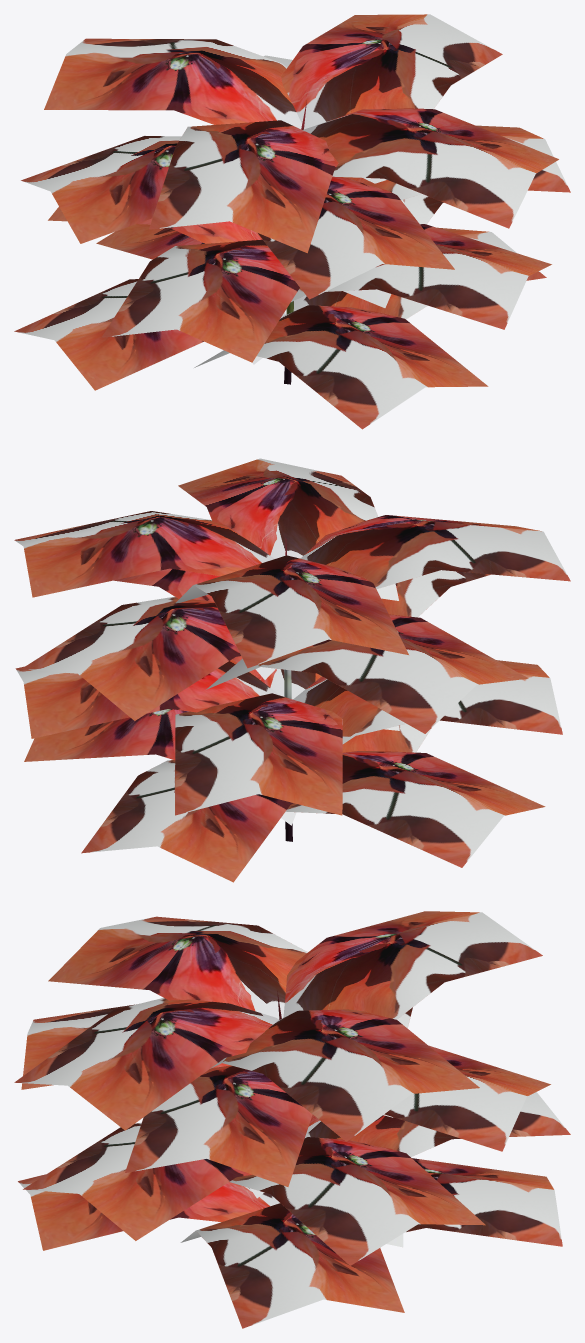
The model's file is plant_007.dae.
3 renders of one model, top to bottom at view 1: azimuth 30°, elevation 25°; view 2: azimuth 150°, elevation 25°; view 3: azimuth 270°, elevation 25°, orthographic. The views are drawn at different scales.
Parts seen in each view (by area): view 1: Plant_007; view 2: Plant_007; view 3: Plant_007.
Part boxes in pixels (x1,y1,x2,y2): Plant_007: [14, 14, 570, 429]; Plant_007: [14, 458, 570, 882]; Plant_007: [14, 911, 570, 1328].
Size of the model in its own units: 2.53 by 1.6 by 2.55.
